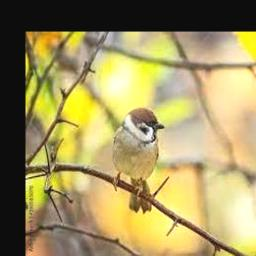Sparrow: (113, 110, 164, 211)
